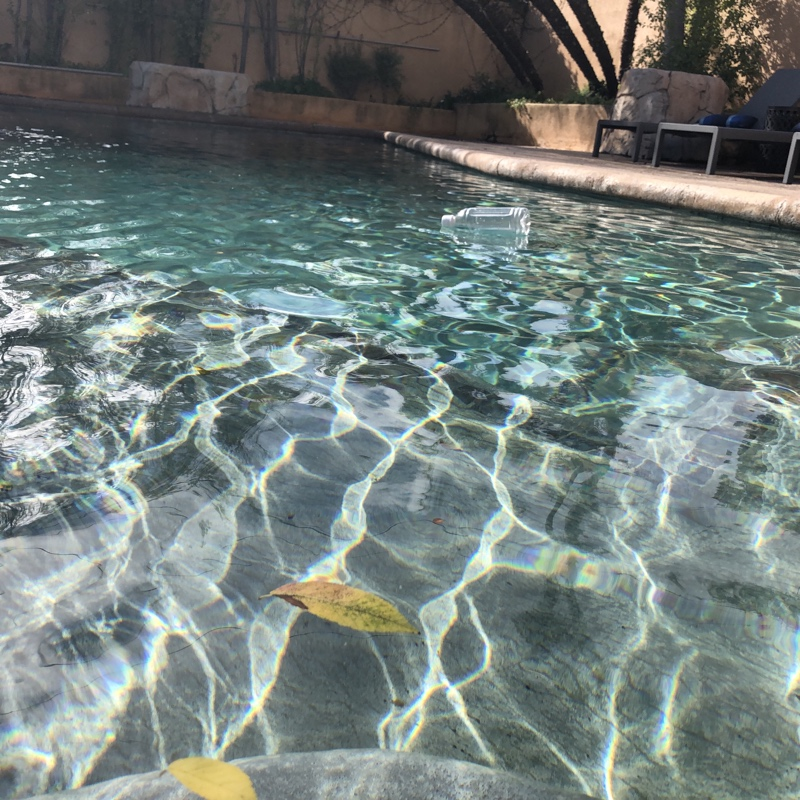Plastic Bottle: (435, 197, 535, 247)
